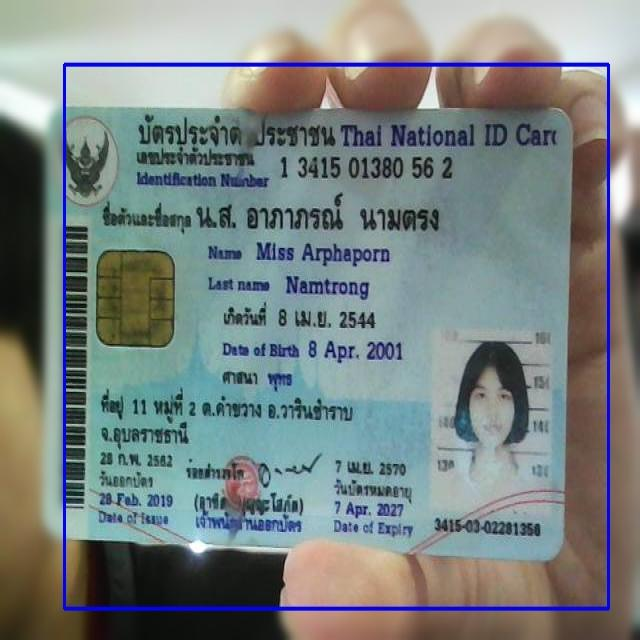Address_th: (96, 383, 359, 452)
Date_of_Birth: (305, 332, 407, 369)
Date_of_Expiry: (329, 498, 414, 522)
Date_of_Issue: (93, 490, 176, 510)
First_Name: (251, 235, 394, 271)
ID_Number: (276, 152, 458, 186)
Image: (433, 328, 553, 512)
Last_Name: (281, 272, 373, 304)
Thai_Name: (190, 186, 452, 240)
